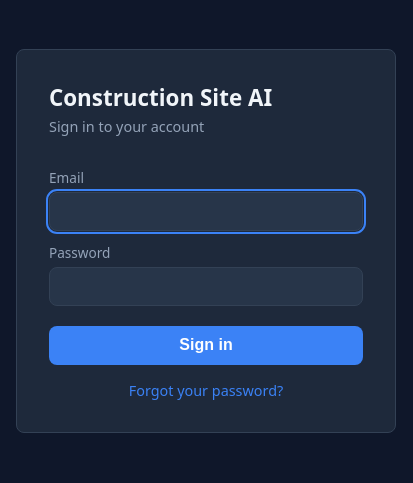
LoginPage › shows an error message when login fails
Type "wrong@example.com" into the field labelled "Email". click: (206, 212)
box: [49, 192, 363, 231]
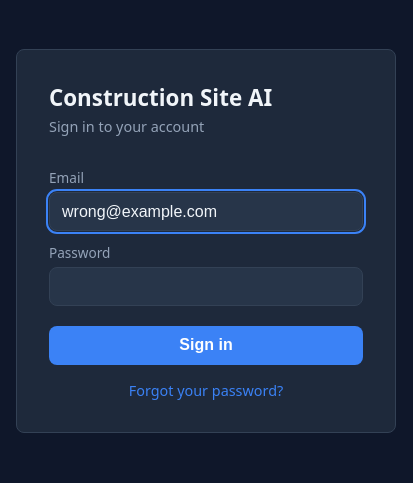
Type "wrongpass" into the password field labelled "Password". click: (206, 286)
box: [49, 267, 363, 306]
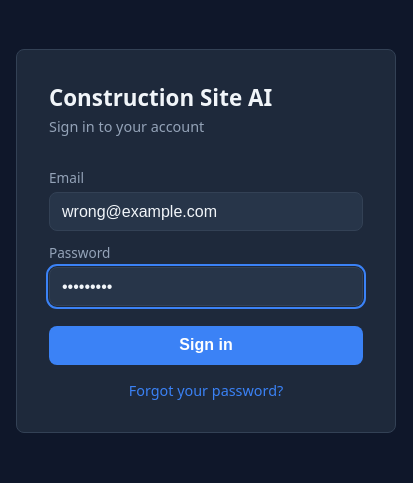
Click the button "Sign in". click: (206, 346)
box: [49, 326, 363, 365]
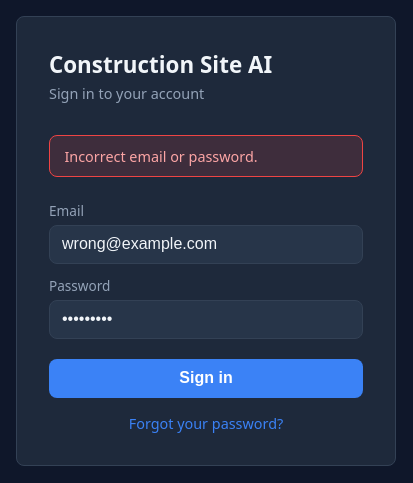
Result: the message shows "Incorrect email or password" at [64, 147, 258, 166]
